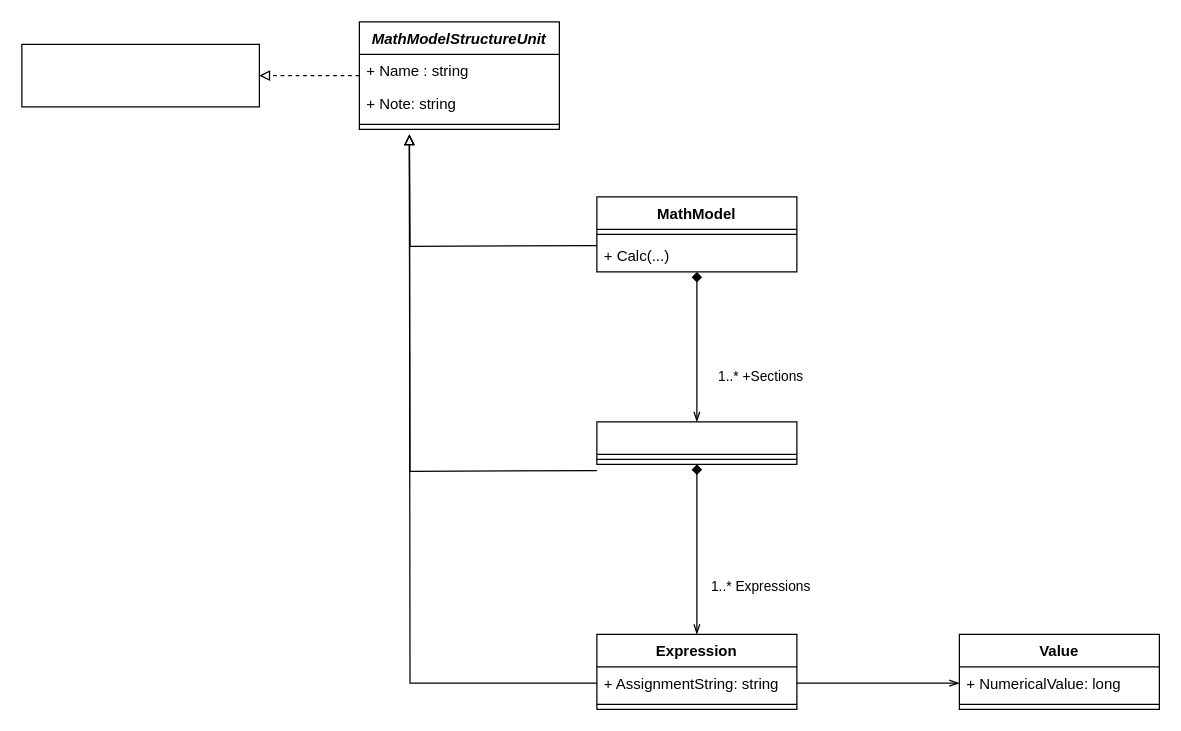
The diagram is 1181 pixels wide and 731 high, and some of its shapes have lost their labels. Here are the shapes that lost their labels. From the top down, the centre of each, then its label:
(140,75): «interface» INotifyPropertyChanged
(696,442): Section
